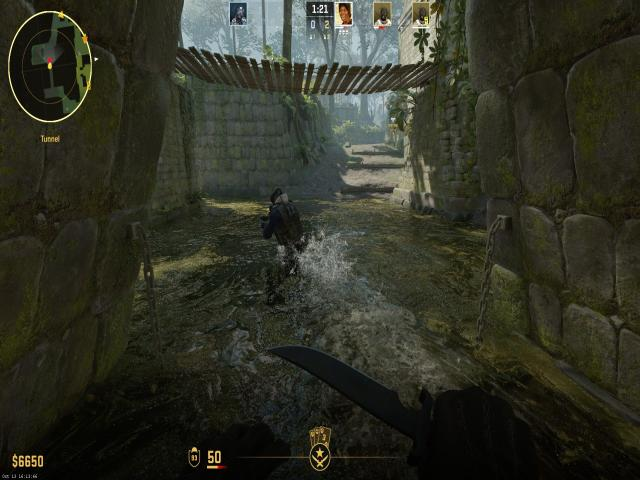CT: (264, 174, 305, 292)
CT-Head: (268, 184, 292, 206)
